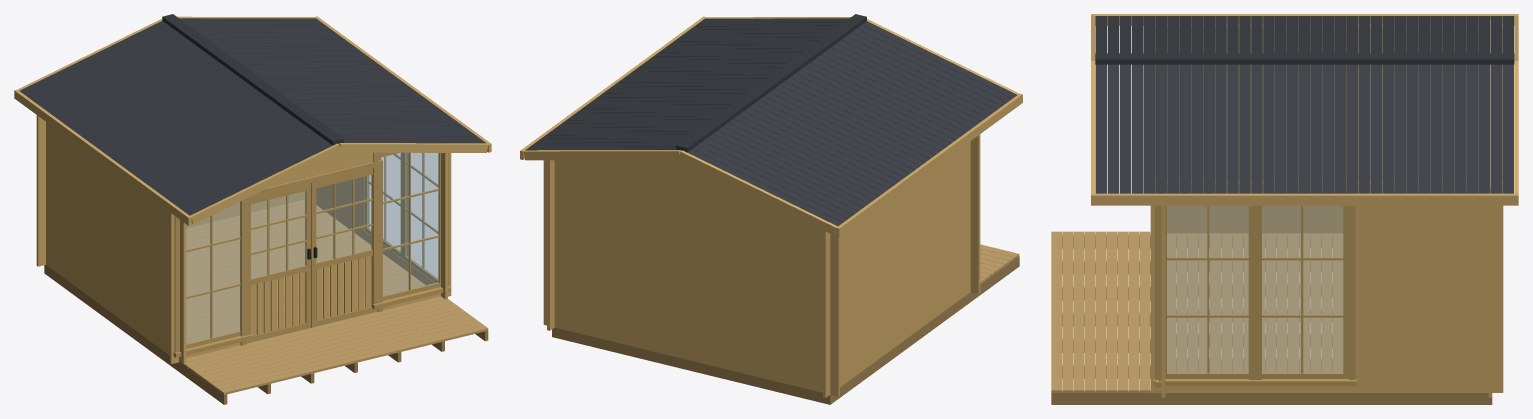
The model's file is пион_4_3_34_20_мм_панорамное_остекление.glb.
3 renders of one model, left to right at view 1: azimuth 30°, elevation 25°; view 2: azimuth 150°, elevation 25°; view 3: azimuth 270°, elevation 25°, orthographic. The views are drawn at different scales.
Visible parts, largest first — view 1: roof, walls, deck, floor, object 59, object 47, object 33, object 15, object 71, Пион 4×3 (34+20 мм, панорамное остекление), object 83, object 40 (+13 smaller); view 2: walls, roof, Пион 4×3 (34+20 мм, панорамное остекление), deck; view 3: roof, walls, floor, deck, object 71, object 83, Пион 4×3 (34+20 мм, панорамное остекление), object 87, object 76, object 88, object 80, object 75 (+7 smaller).
Part boxes in pixels (x1,y1,x2,y2): roof: (14,14,491,225); walls: (36,115,451,363); deck: (179,296,488,394); floor: (186,199,425,343); object 59: (381,153,438,296); object 47: (186,202,240,343); object 33: (316,175,371,262); object 15: (251,191,305,278); object 71: (406,153,437,278); Пион 4×3 (34+20 мм, панорамное остекление): (44,265,488,404); object 83: (368,153,400,251); object 40: (240,199,246,345); walls: (543,134,980,397); roof: (520,14,1022,237); Пион 4×3 (34+20 мм, панорамное остекление): (552,256,1019,404); deck: (980,244,1019,284); roof: (1091,14,1518,205); walls: (1150,20,1503,397); floor: (1167,233,1343,372); deck: (1051,231,1161,392); object 71: (1167,206,1248,372); object 83: (1262,206,1342,372); Пион 4×3 (34+20 мм, панорамное остекление): (1051,235,1492,404); object 87: (1248,191,1255,379); object 76: (1255,205,1261,379); object 88: (1349,205,1355,379); object 80: (1343,205,1348,378); object 75: (1155,191,1161,379).
Size of the model in its own units: 3.9 by 2.69 by 4.24.
